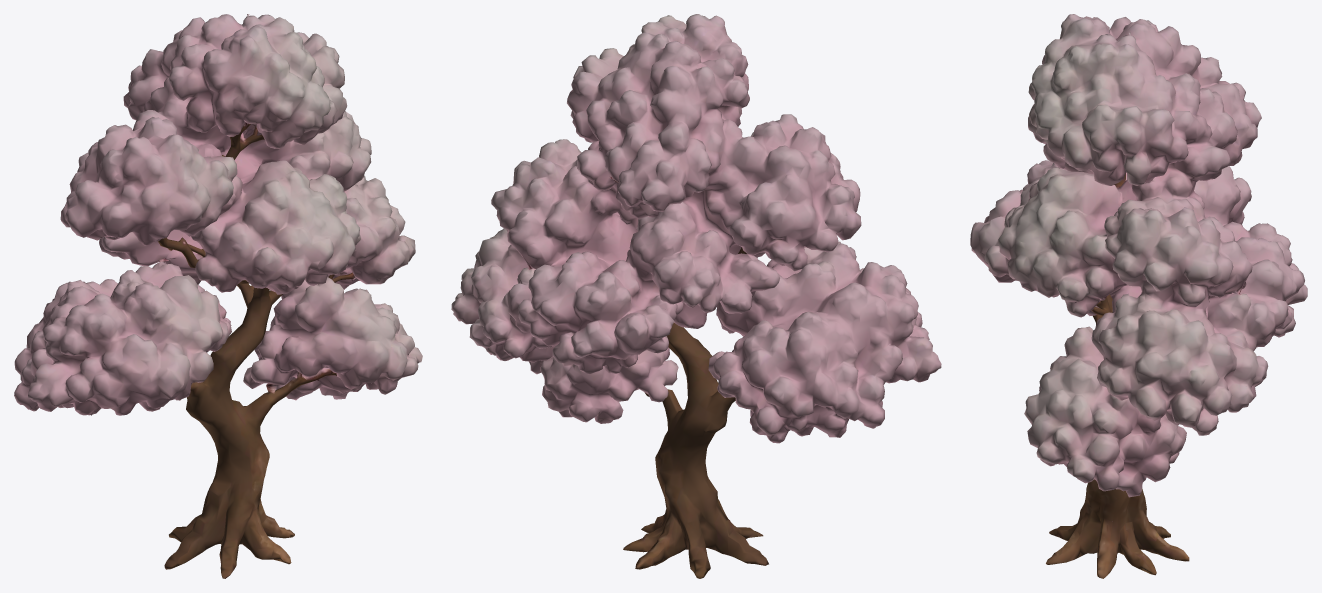
Rendered from nat_tree_cherry_v1.glb.
The picture shows the model from 3 angles, left to right: view 1: azimuth 30°, elevation 25°; view 2: azimuth 150°, elevation 25°; view 3: azimuth 270°, elevation 25°; orthographic projection. The views are drawn at different scales.
Visible parts, largest first — view 1: tripo_node_70af5086-5757-4a98-b67e-a556983370b1; view 2: tripo_node_70af5086-5757-4a98-b67e-a556983370b1; view 3: tripo_node_70af5086-5757-4a98-b67e-a556983370b1.
Part boxes in pixels (box(x1,y1,x2,y2)): tripo_node_70af5086-5757-4a98-b67e-a556983370b1: box(14, 14, 422, 578); tripo_node_70af5086-5757-4a98-b67e-a556983370b1: box(451, 14, 941, 578); tripo_node_70af5086-5757-4a98-b67e-a556983370b1: box(970, 14, 1307, 578).
Size of the model in its own units: 0.8326 by 0.9788 by 0.5544.
Materials: 1 (1 with a texture image).
